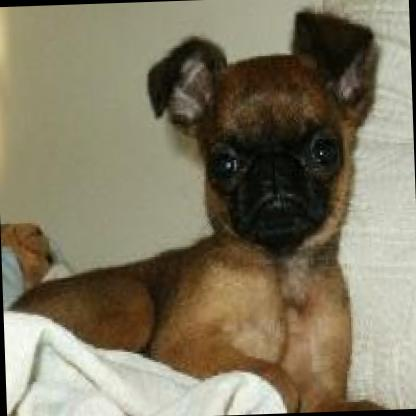Brabancon_griffon: (0, 3, 388, 416)
